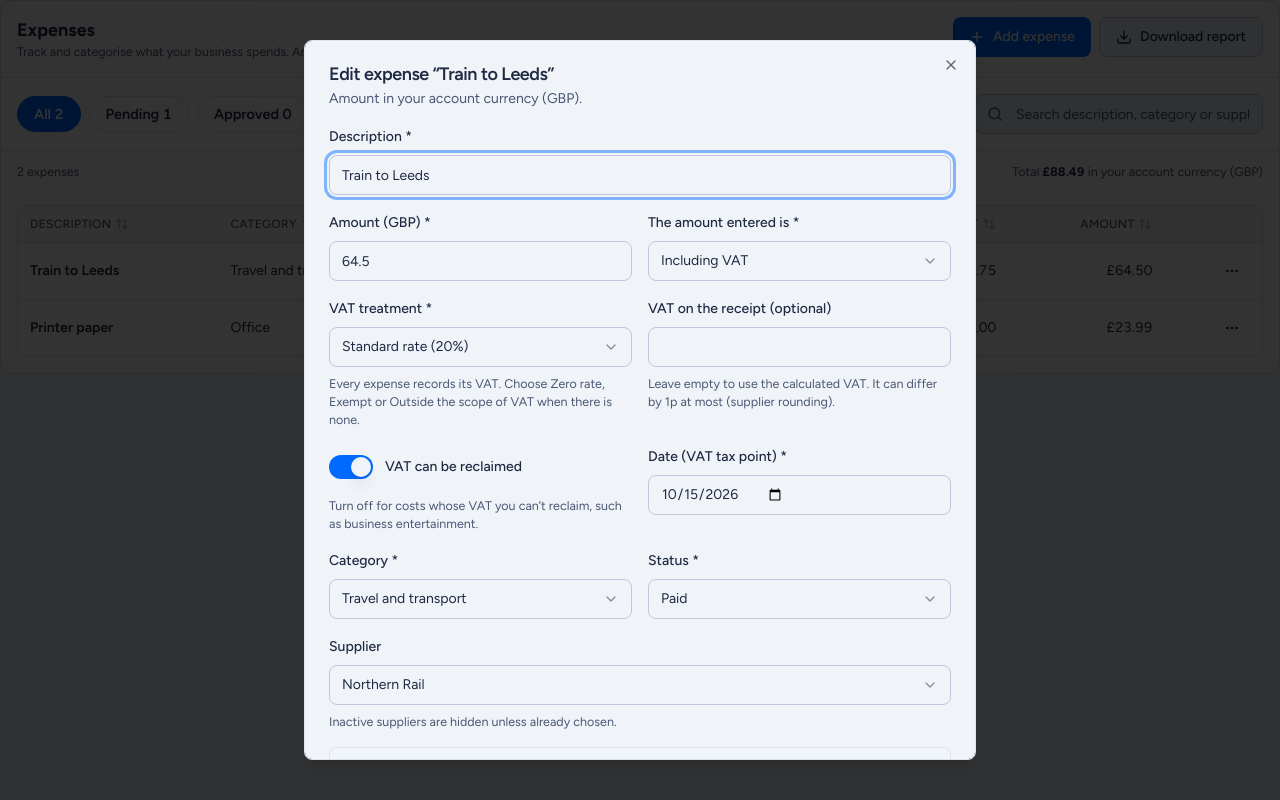
Test: ExpensesTab › edit sends only the changed field, filtered by id and user
Earlier steps of the test are not shown.
Check: the field labelled "Description *" holds "Train to Leeds", box [329,155,951,195]
Replace the text in the number field labelled "Amount (GBP) *" with "70": (480, 261) [329,241,632,281]
(page scrolled)
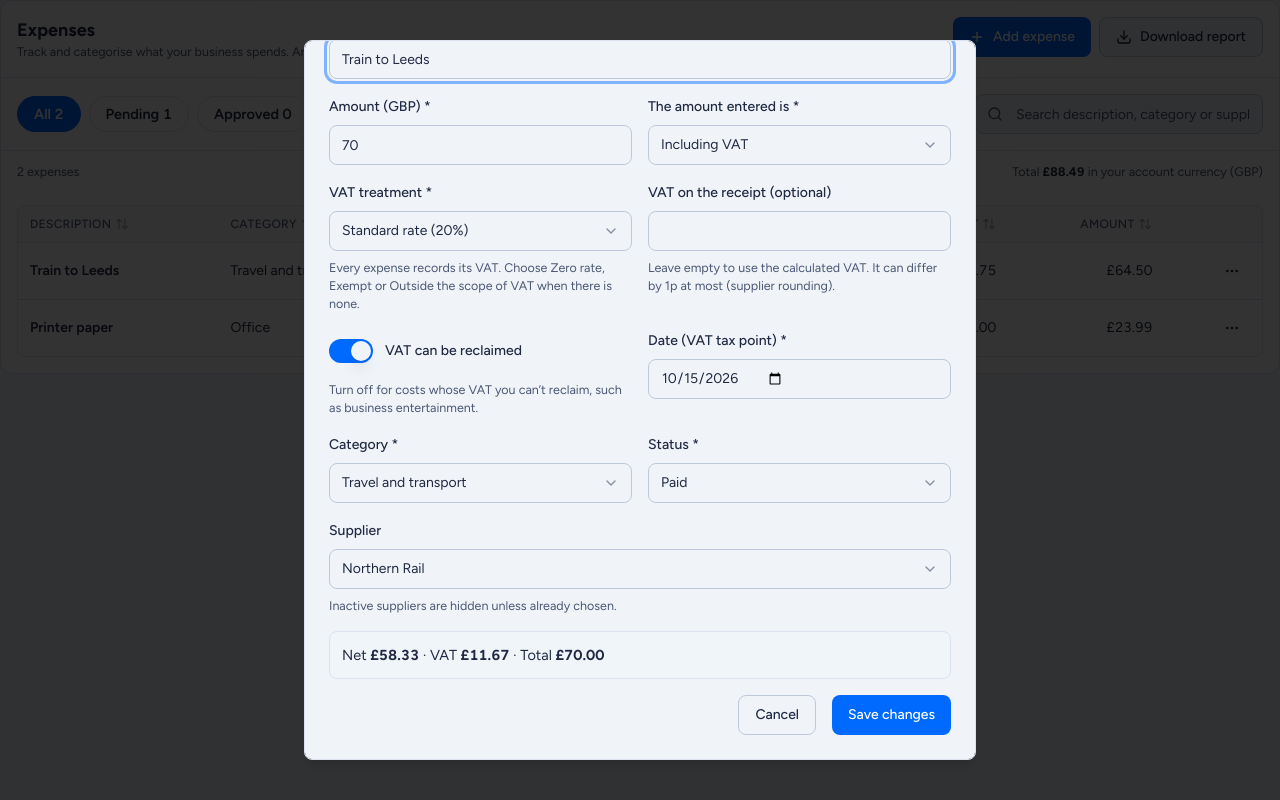
Click the button "Save changes": (892, 715) [832,695,951,735]
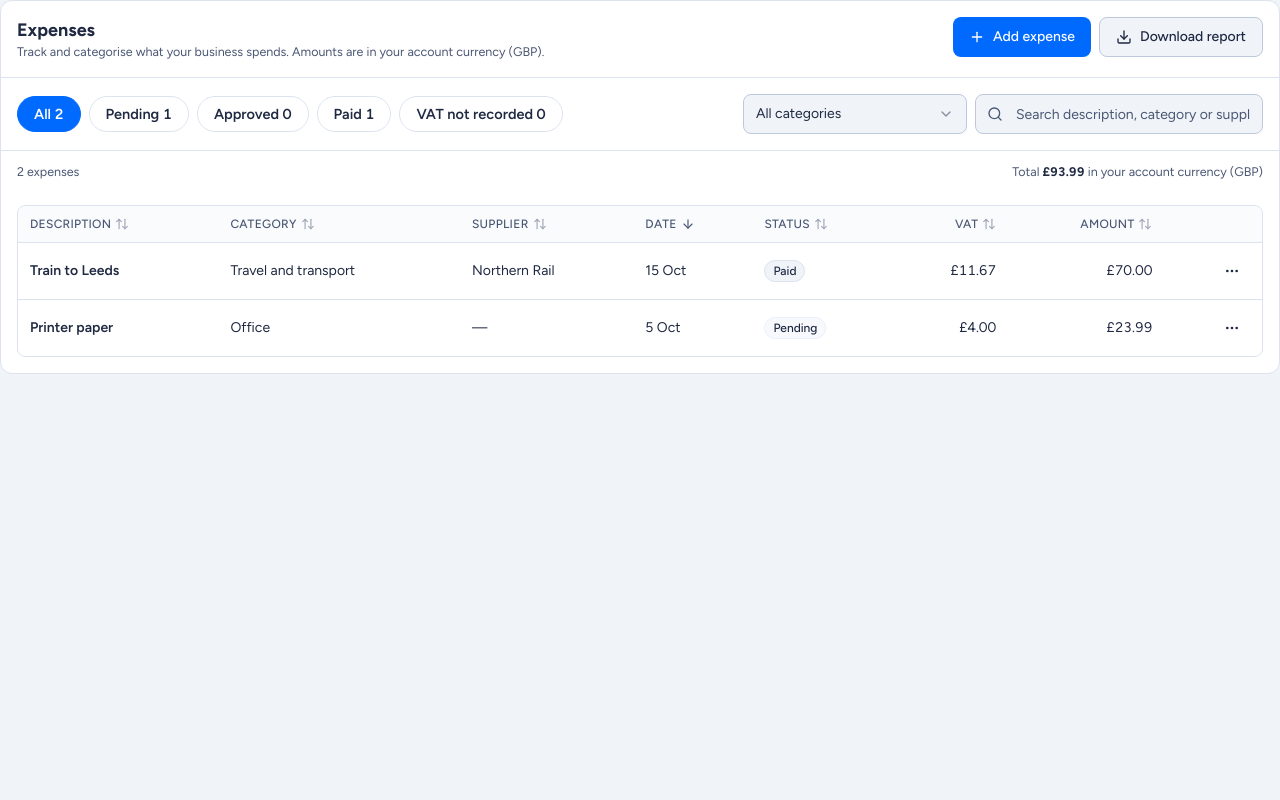
Check: the dialog is gone
Check: the row that starts with "Train to Leeds" shows "£70.00", box [1107,262,1152,279]
